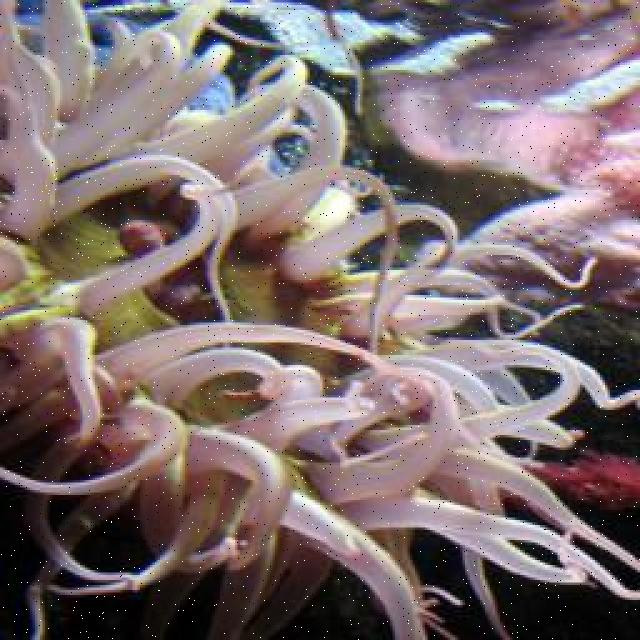reefs: (0, 0, 638, 638)
